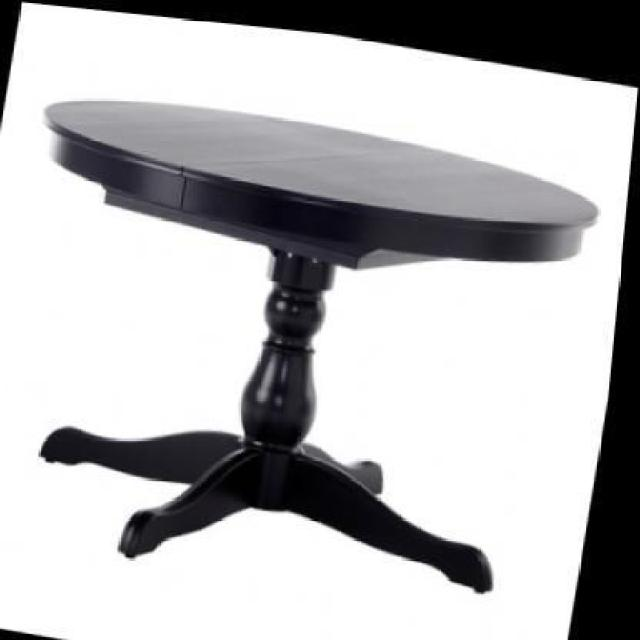tables: (39, 95, 598, 594)
